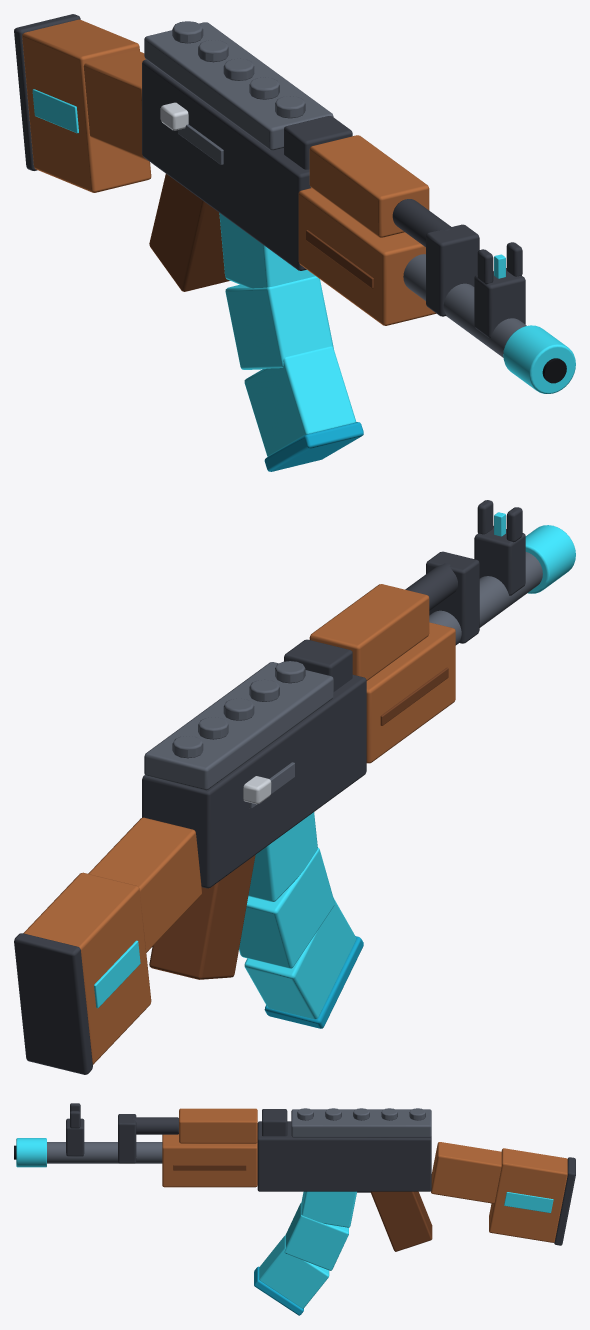
3 renders of one model, top to bottom at view 1: azimuth 30°, elevation 25°; view 2: azimuth 150°, elevation 25°; view 3: azimuth 270°, elevation 25°, orthographic. The views are drawn at different scales.
Visible parts, largest first — view 1: AK_Metal, AK_Plastic, AK_SmoothPlastic; view 2: AK_Metal, AK_Plastic, AK_SmoothPlastic; view 3: AK_Metal, AK_Plastic, AK_SmoothPlastic.
Part boxes in pixels (x1,y1,x2,y2): AK_Metal: [14, 14, 526, 357]; AK_Plastic: [22, 19, 436, 325]; AK_SmoothPlastic: [32, 89, 575, 471]; AK_Metal: [14, 500, 542, 1074]; AK_Plastic: [23, 584, 455, 1064]; AK_SmoothPlastic: [94, 512, 575, 1028]; AK_Metal: [47, 1103, 575, 1245]; AK_Plastic: [162, 1108, 567, 1251]; AK_SmoothPlastic: [14, 1138, 553, 1315].
Bounding box in the file's own units: 0.398 × 1.58 × 4.
Materials: 3 (3 with a texture image).
